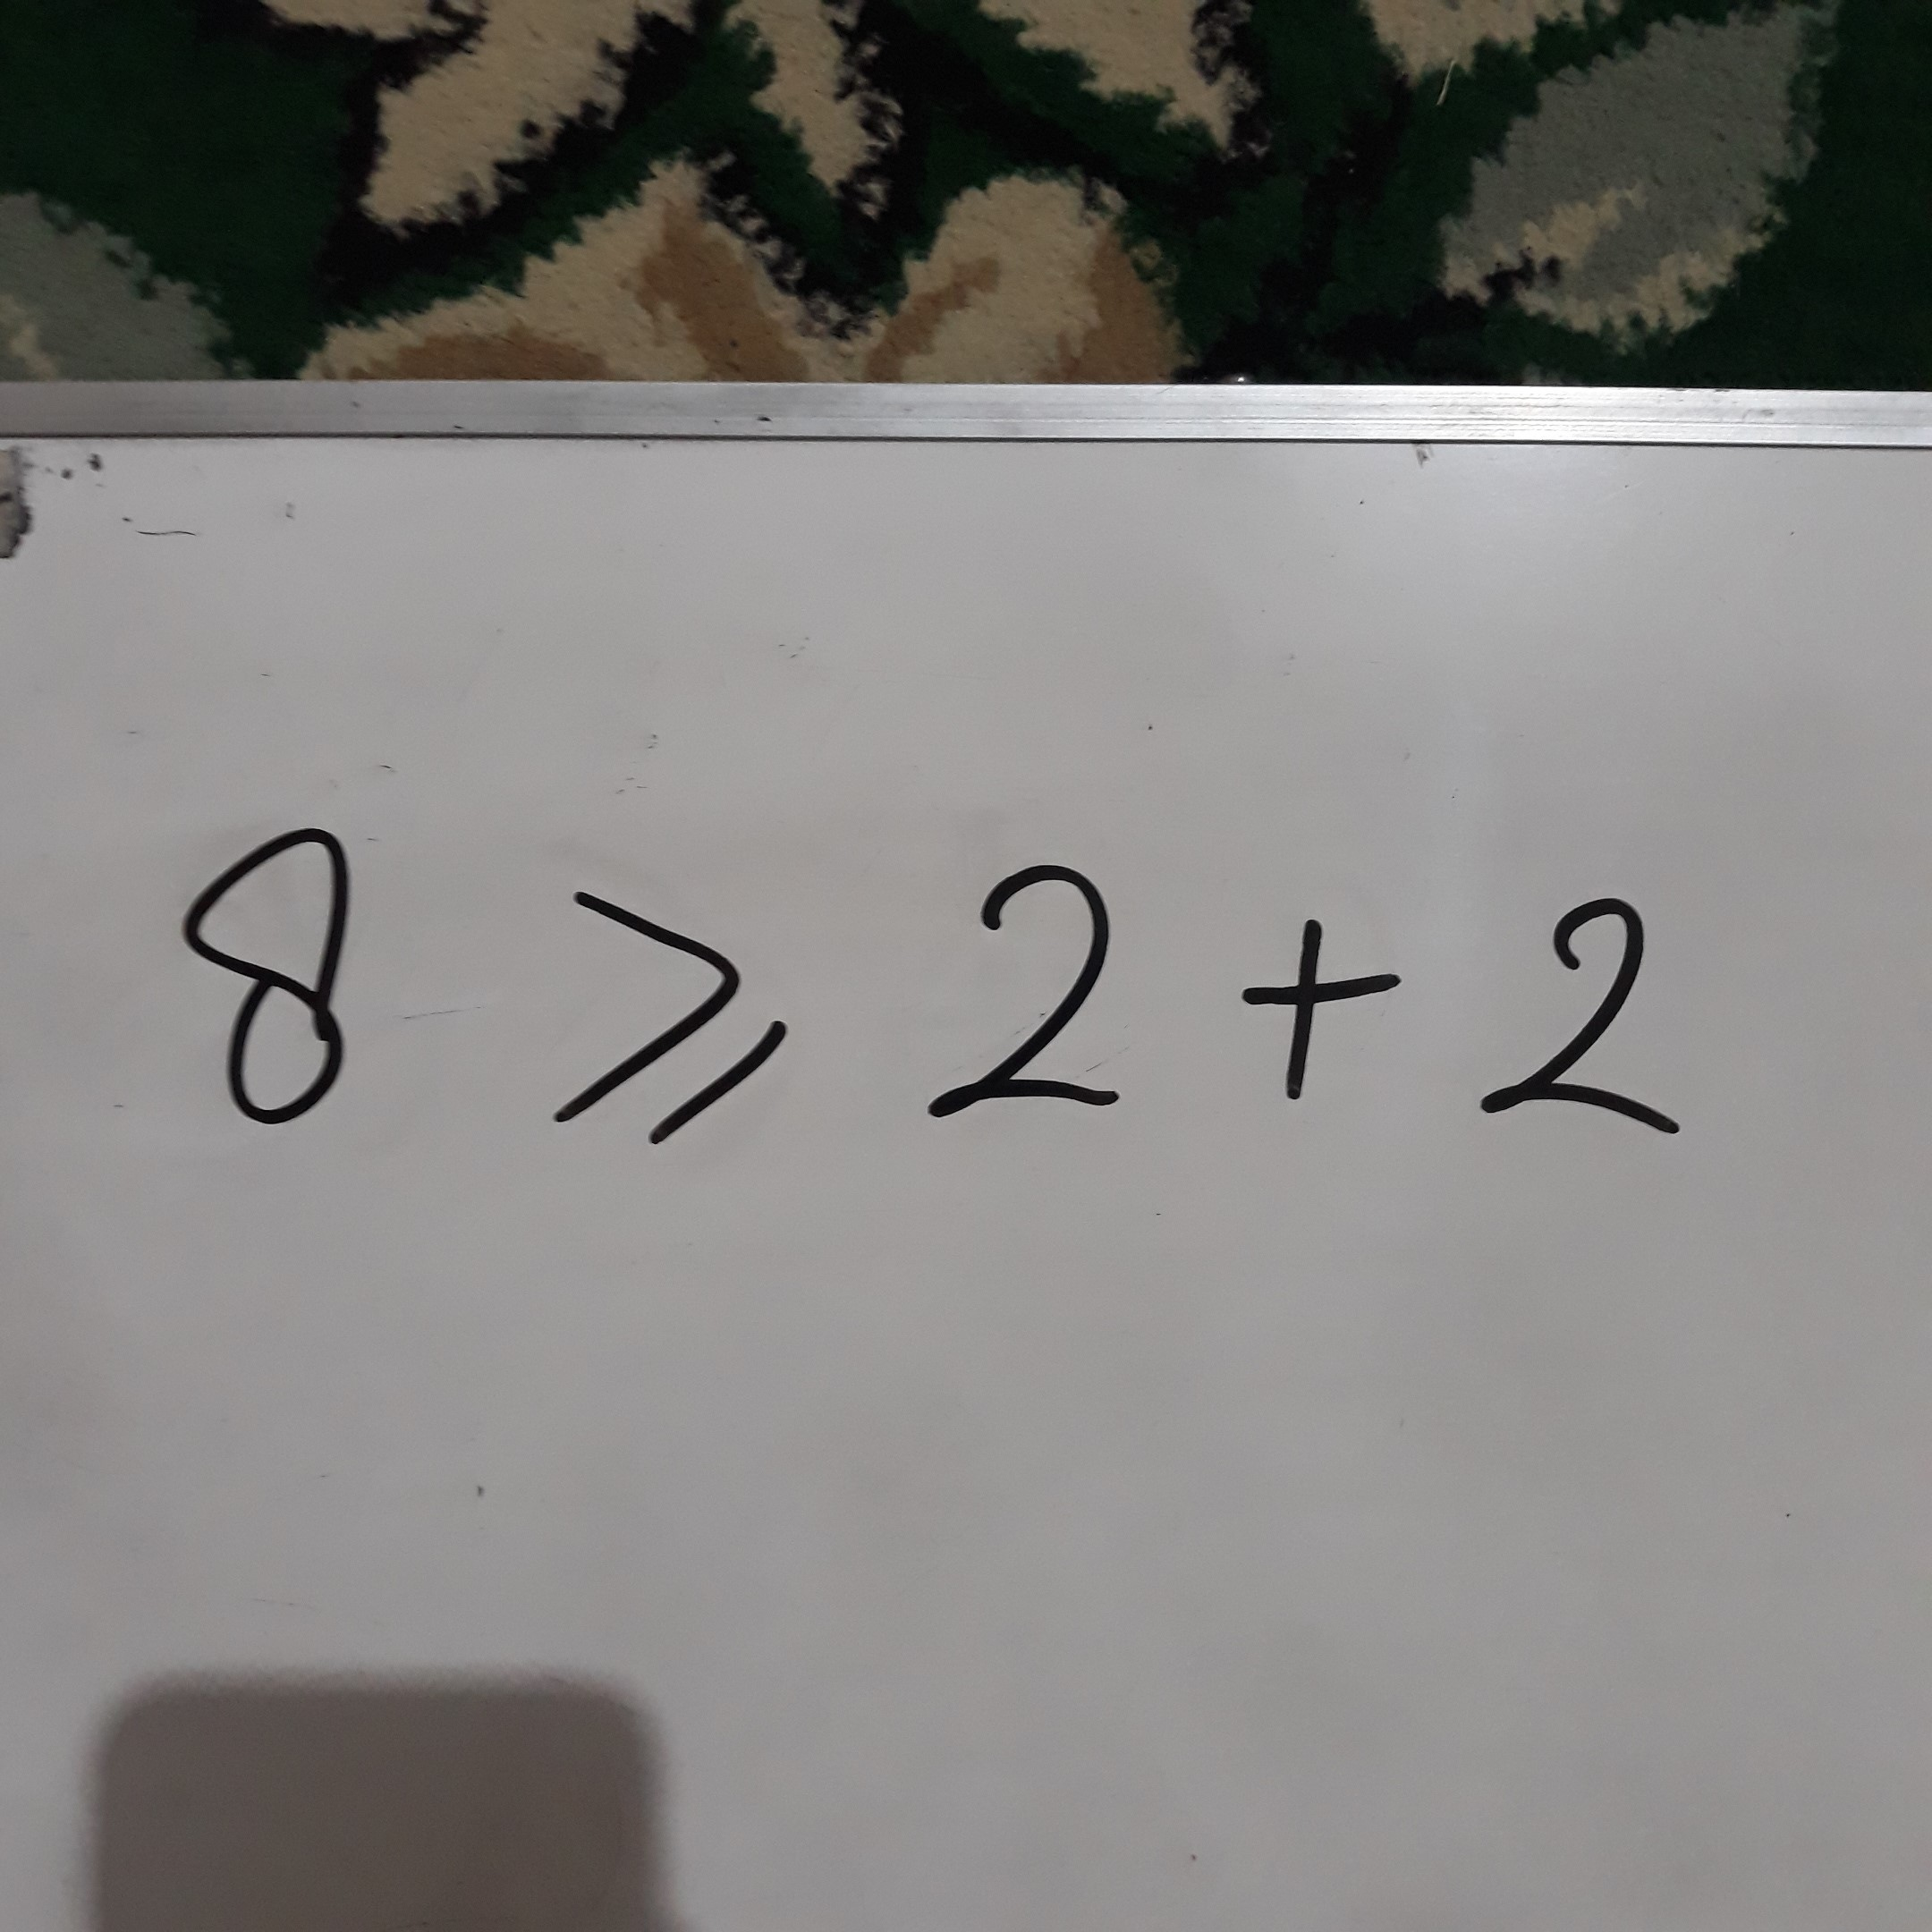morethan-equal: (540, 866, 793, 1182)
num2: (915, 840, 1168, 1157), (1470, 888, 1704, 1164)
num8: (146, 825, 399, 1141)
sum: (1198, 881, 1424, 1109)
